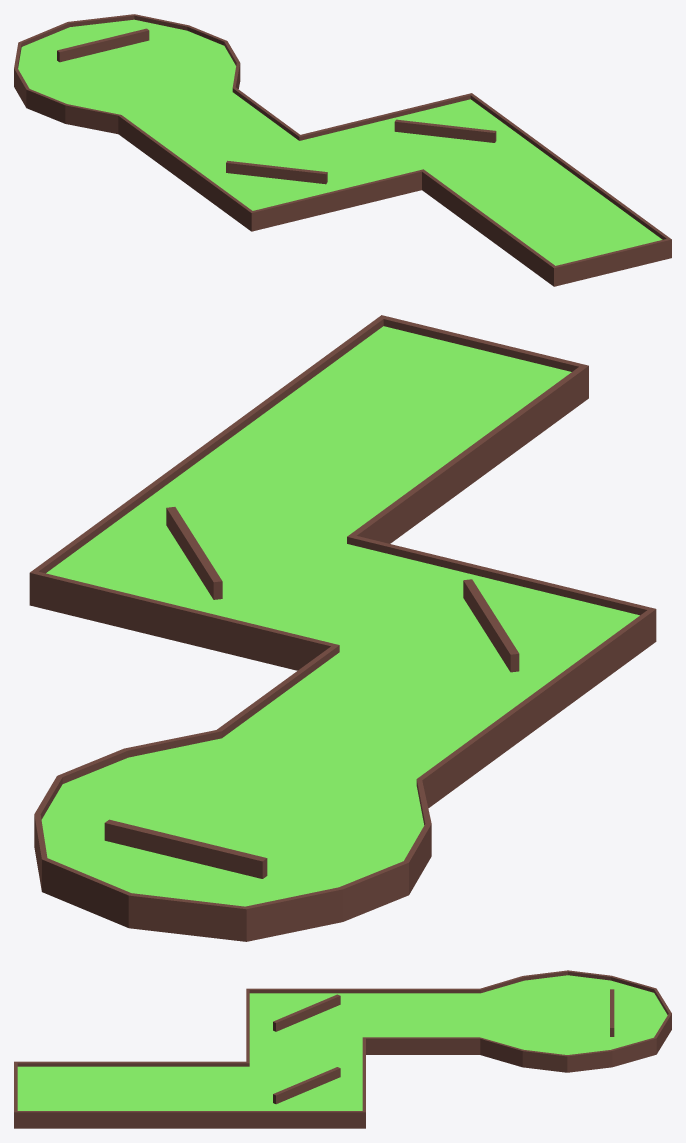
Rendered from Course01b.fbx.
3 views of the same model, one above another, from view 1: azimuth 30°, elevation 25°; view 2: azimuth 150°, elevation 25°; view 3: azimuth 270°, elevation 25° (orthographic). The views are drawn at different scales.
Visible parts, largest first — view 1: Cube.062, Cube.063, Cube.064, Cube.065, Cube.066; view 2: Cube.062, Cube.063, Cube.066, Cube.064, Cube.065; view 3: Cube.062, Cube.063, Cube.064, Cube.065.
Boxes of the visible parts, x1,y1,x2,y2 form: Cube.062: (18,19,662,265); Cube.063: (14,14,671,286); Cube.064: (394,119,496,142); Cube.065: (226,160,327,184); Cube.066: (57,28,149,62); Cube.062: (41,326,639,906); Cube.063: (29,315,656,941); Cube.066: (104,819,267,878); Cube.064: (166,507,222,599); Cube.065: (463,579,519,672); Cube.062: (17,975,667,1110); Cube.063: (14,970,671,1128); Cube.064: (273,1067,340,1104); Cube.065: (273,994,340,1031).
Size of the model in its own units: 1157 by 82.26 by 2267.
